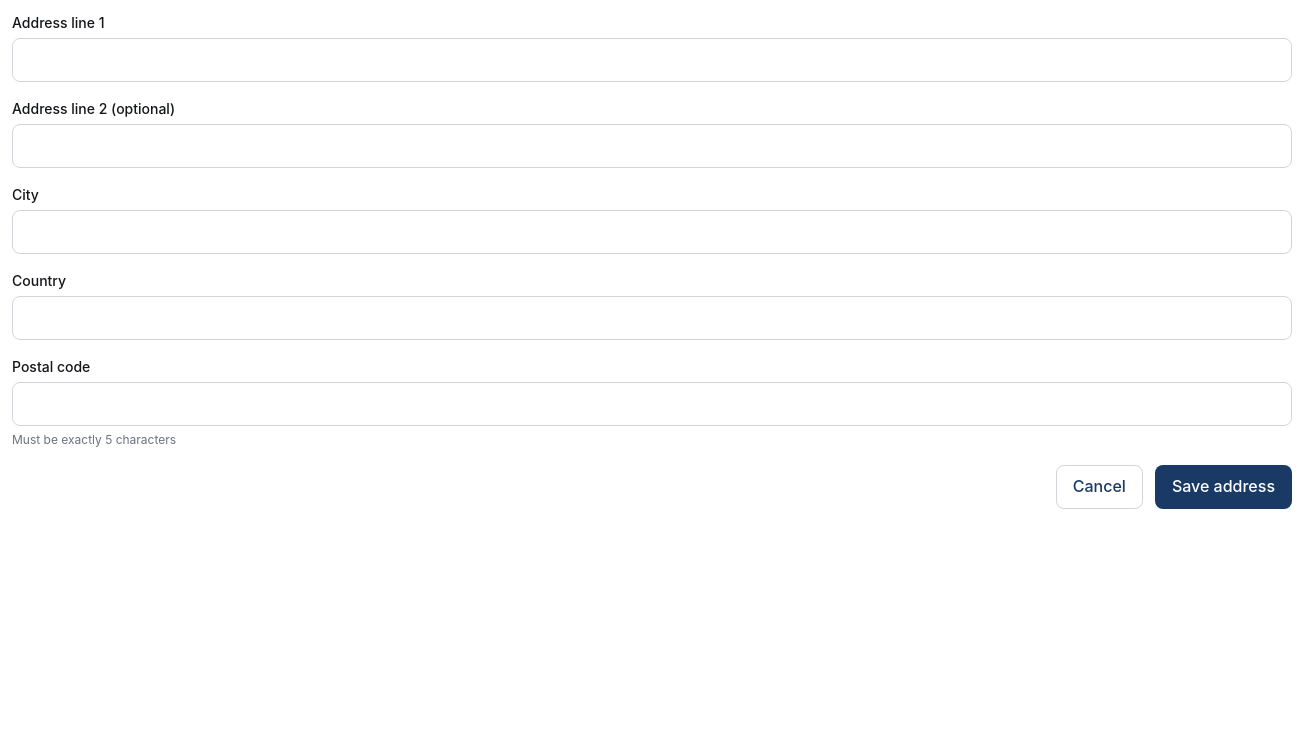
it: AddressForm › shows a validation error when the postal code is NOT exactly 5 characters (mirrors the real backend rule)
Type "1 Main St" into the field labelled "Address line 1" at (652, 60), box [12, 38, 1292, 82]
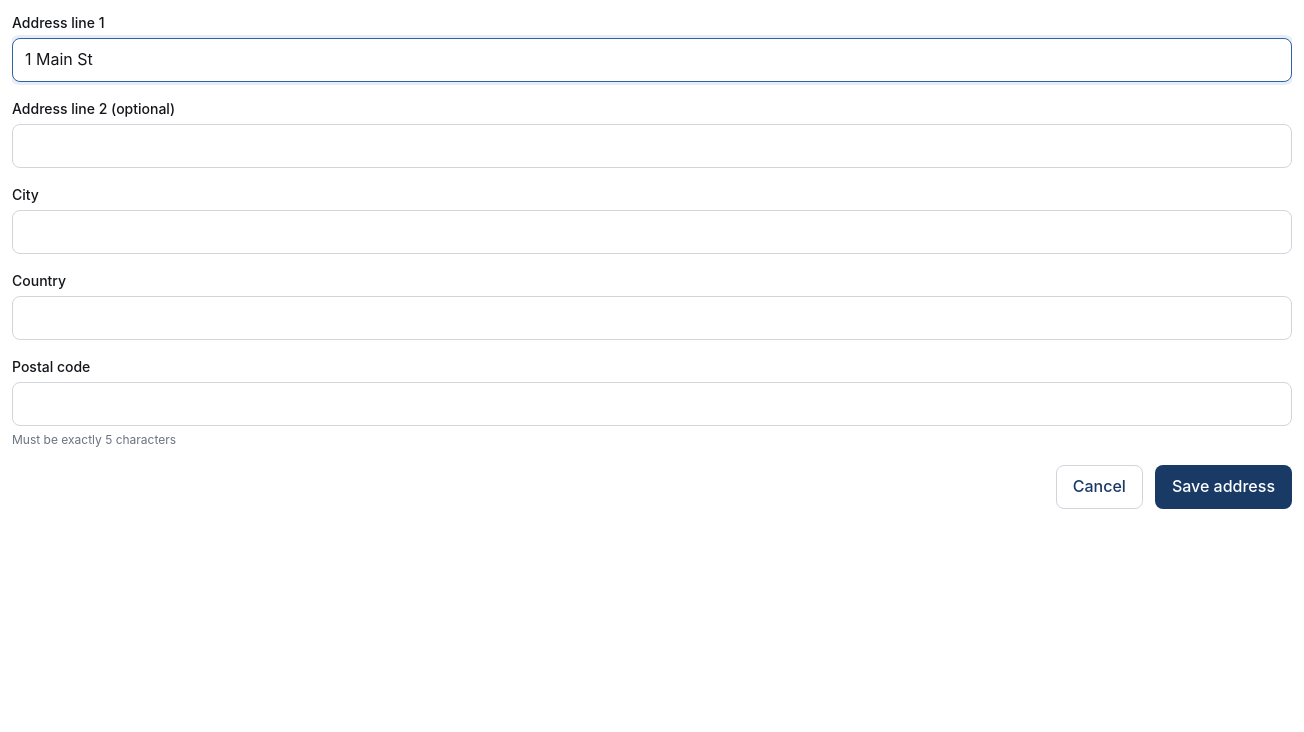
Type "Rabat" into the field labelled "City" at (652, 232), box [12, 210, 1292, 254]
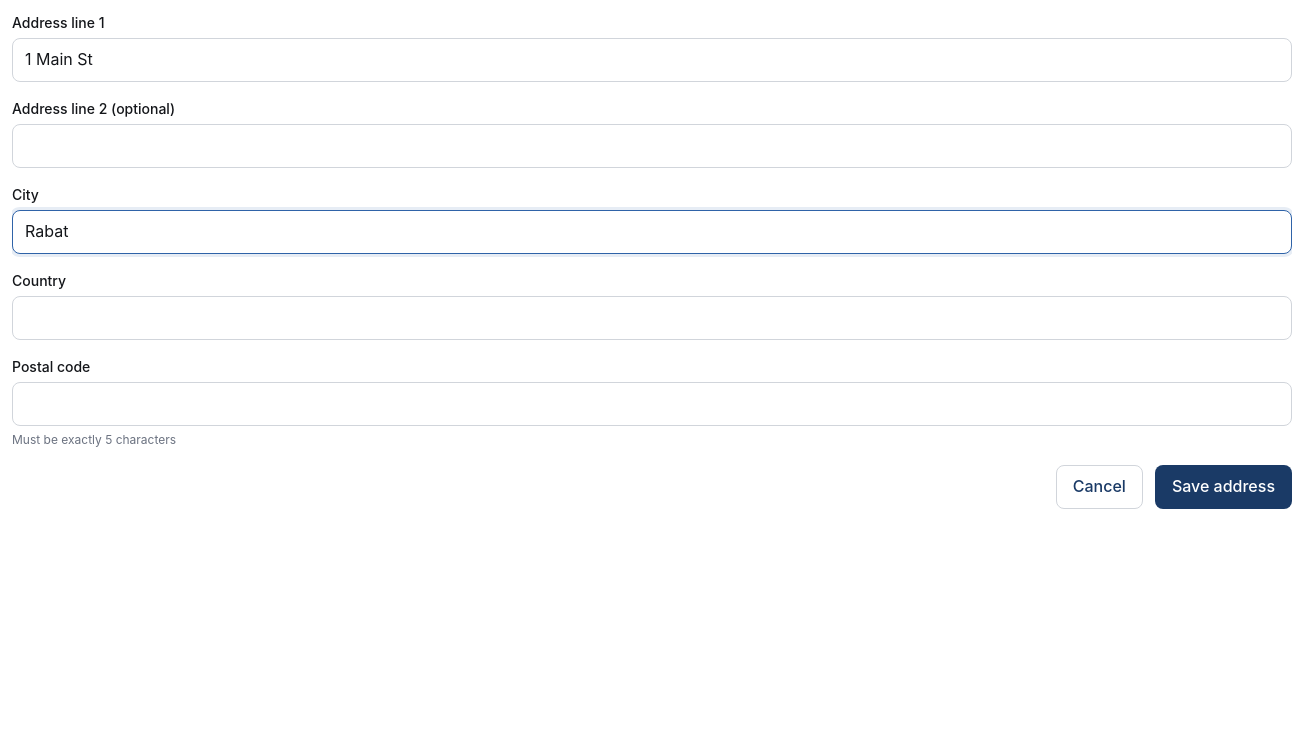
Type "MA" into the field labelled "Country" at (652, 318), box [12, 296, 1292, 340]
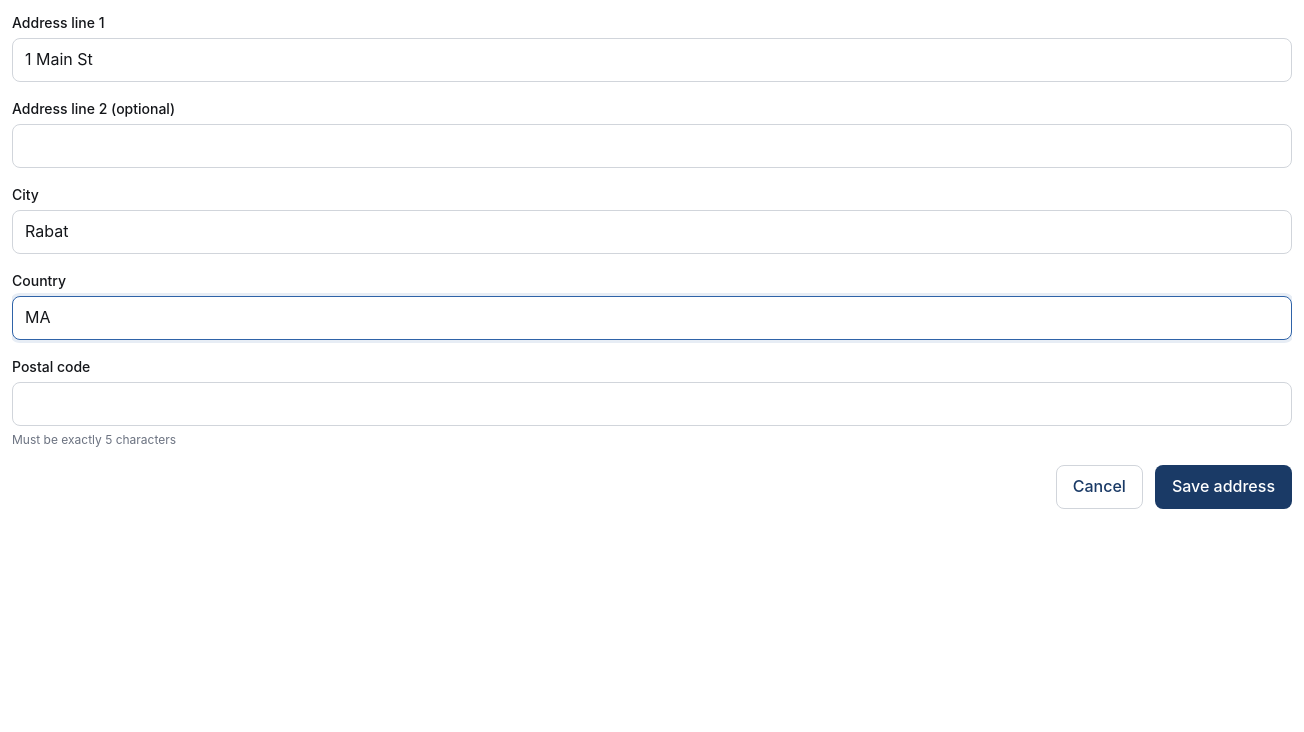
Type "123" into the field labelled "Postal code" at (652, 404), box [12, 382, 1292, 426]
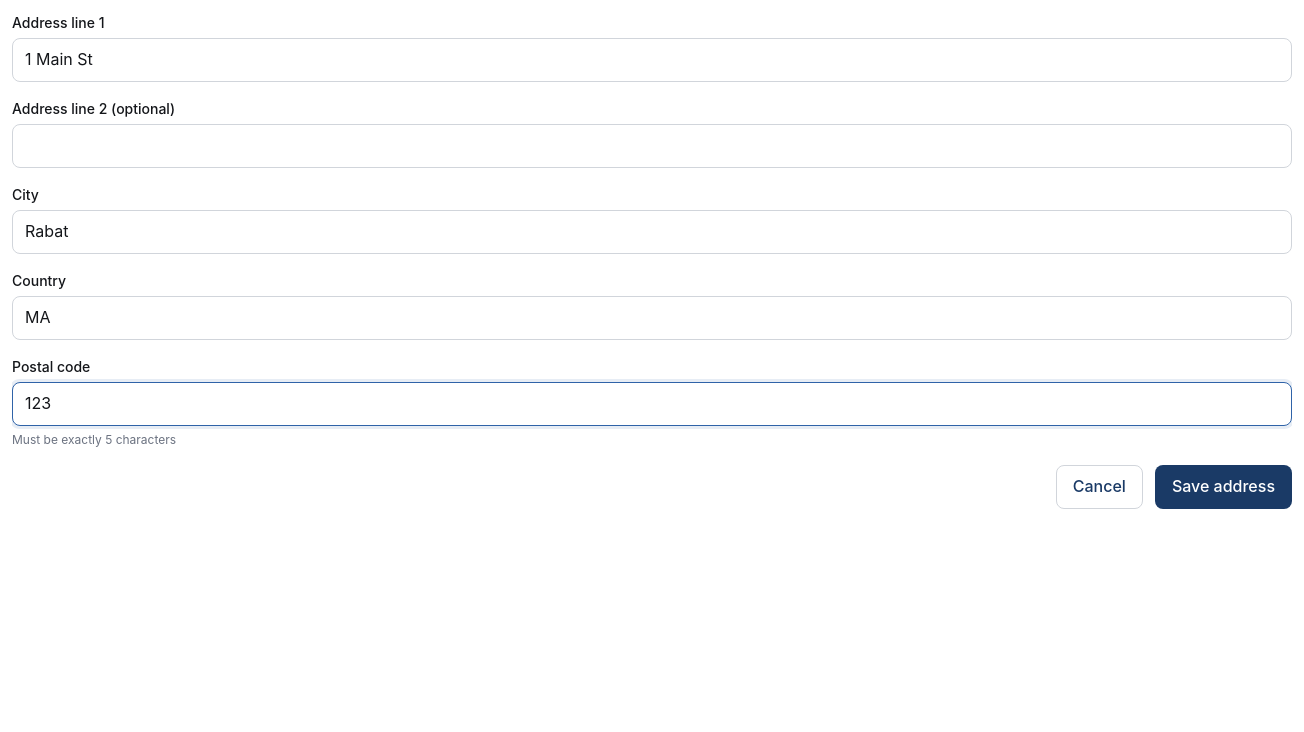
Click the button "Save address" at (1223, 487), box [1155, 465, 1292, 509]
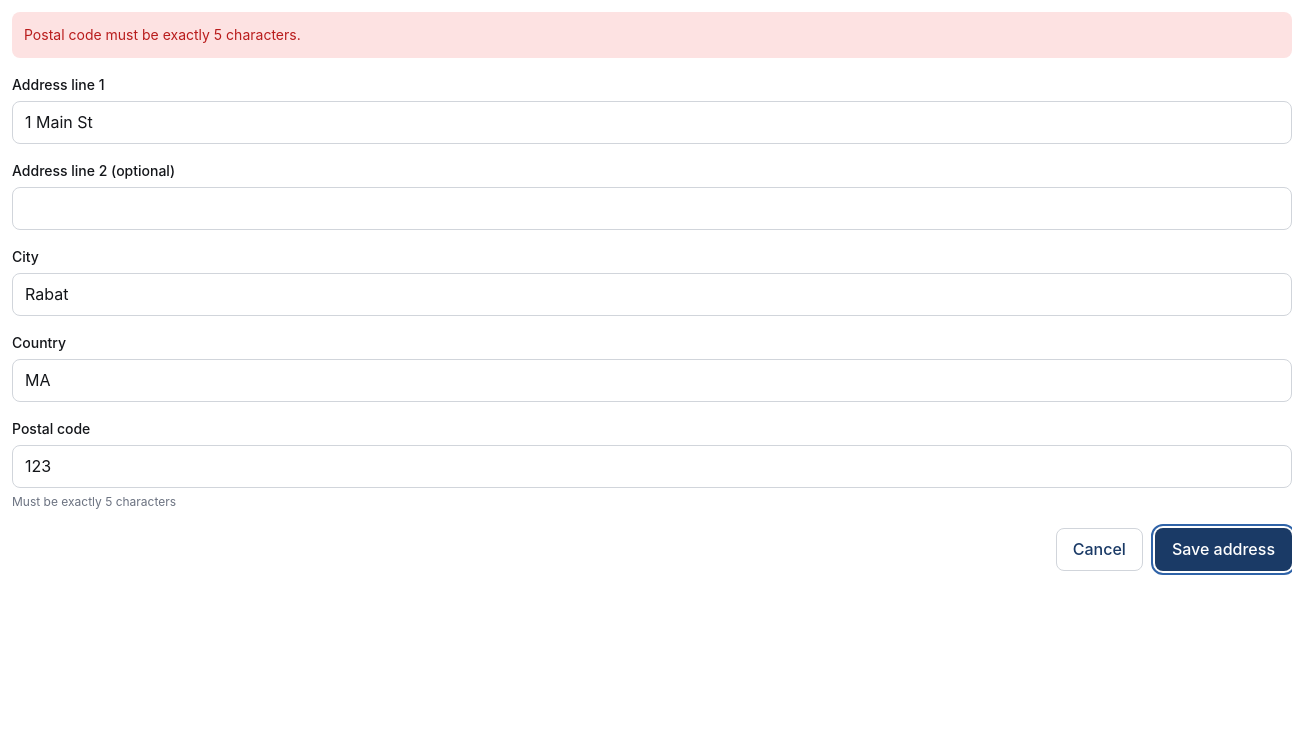
Expected: the message reads "Postal code must be exactly 5 characters.", [24, 26, 301, 43]
